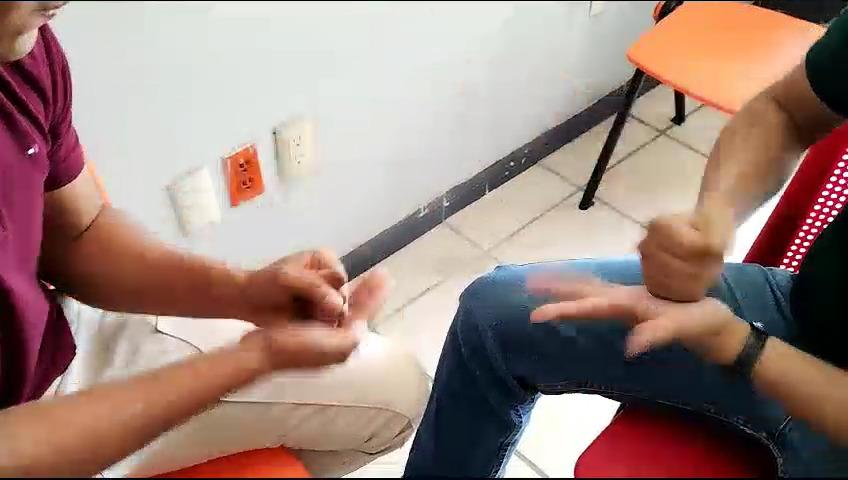Stone: (243, 248, 365, 341), (638, 214, 735, 306)
